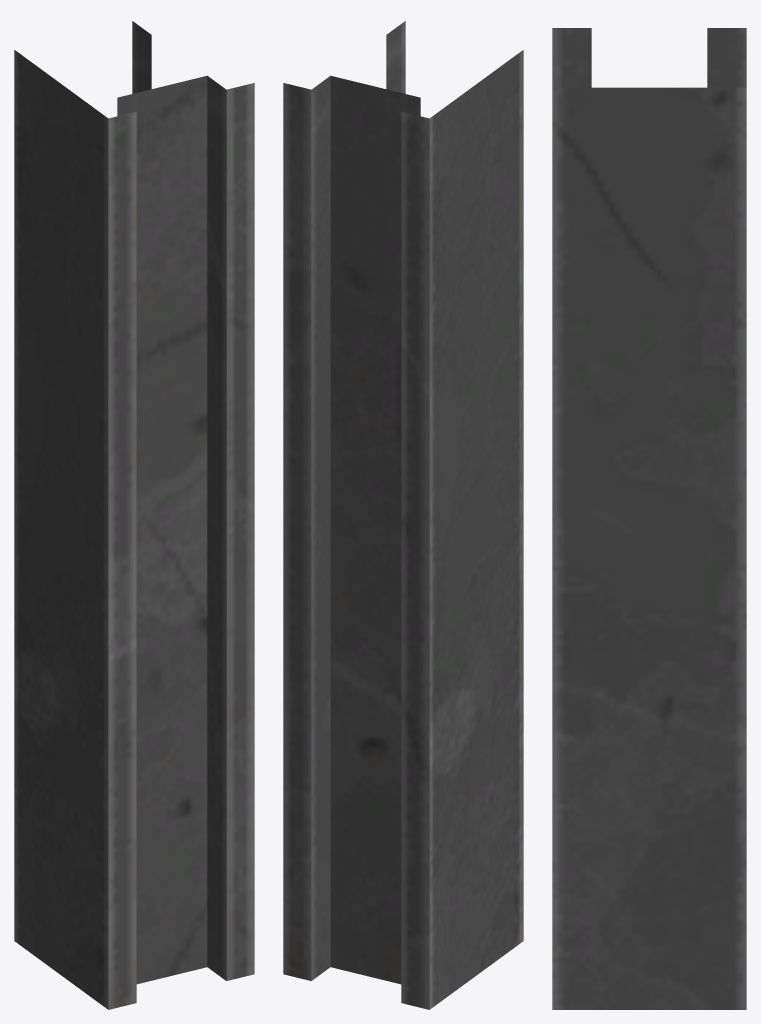
The model's file is roller_top.glb.
3 views of the same model, side by side, from view 1: azimuth 30°, elevation 25°; view 2: azimuth 150°, elevation 25°; view 3: azimuth 270°, elevation 25° (orthographic). The views are drawn at different scales.
Parts seen in each view (by area): view 1: roller_top; view 2: roller_top; view 3: roller_top.
Boxes of the visible parts, x1=… form: roller_top: x1=14, y1=21, x2=254, y2=1009; roller_top: x1=283, y1=21, x2=523, y2=1009; roller_top: x1=552, y1=28, x2=746, y2=1009.
Bounding box in the file's own units: 0.1009 × 0.5885 × 0.1125.
Materials: 1 (1 with a texture image).
